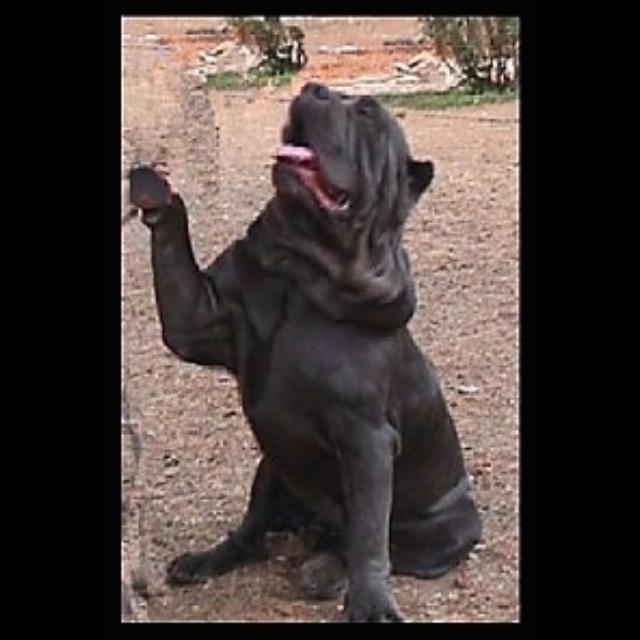mastino_napoletano: (127, 81, 483, 621)
